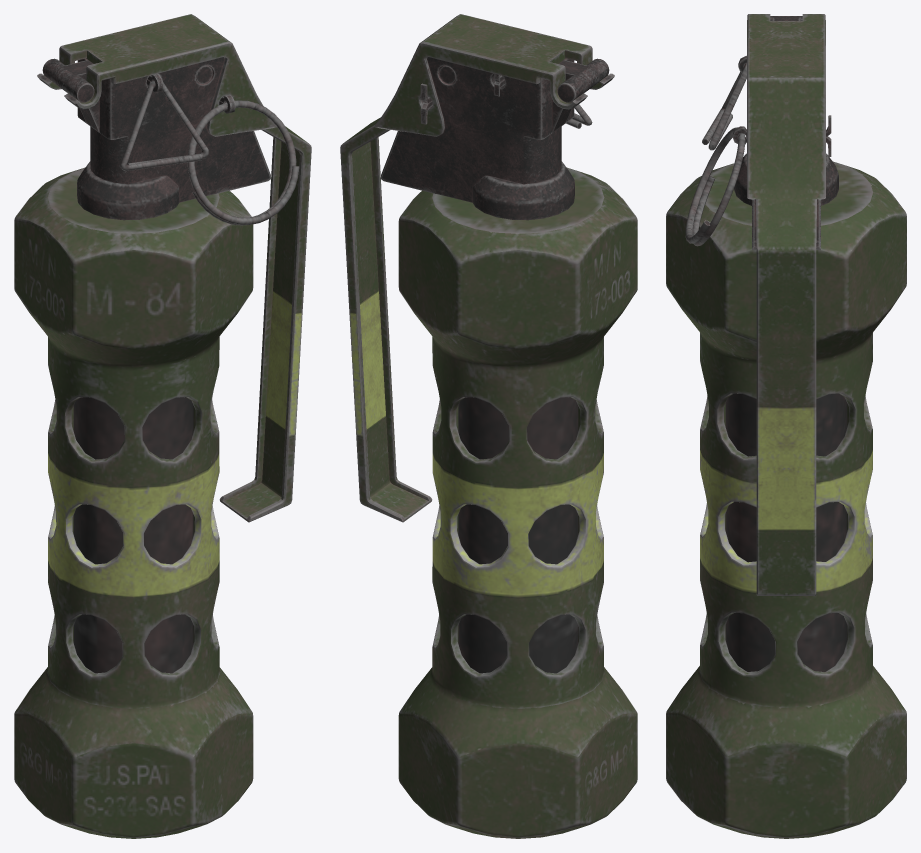
File: stun-grenade.glb
The picture shows the model from 3 angles, left to right: view 1: azimuth 30°, elevation 25°; view 2: azimuth 150°, elevation 25°; view 3: azimuth 270°, elevation 25°; orthographic projection.
Visible parts, largest first — view 1: pCylinder7, pPlane2, pCylinder12, pCylinder8, pCylinder10, pHelix1, pHelix2, pCylinder11; view 2: pCylinder7, pPlane2, pCylinder12, pCylinder8, pCylinder10, pCylinder11; view 3: pCylinder7, pPlane2, pCylinder8, pHelix1, pHelix2, pCylinder10, pCylinder12.
Boxes of the visible parts, bbox=[...] form: pCylinder7: bbox=[14, 167, 253, 838]; pPlane2: bbox=[37, 14, 311, 522]; pCylinder12: bbox=[62, 57, 271, 202]; pCylinder8: bbox=[73, 397, 193, 673]; pCylinder10: bbox=[77, 161, 179, 220]; pHelix1: bbox=[187, 100, 299, 225]; pHelix2: bbox=[121, 80, 208, 171]; pCylinder11: bbox=[42, 58, 94, 102]; pCylinder7: bbox=[398, 167, 637, 838]; pPlane2: bbox=[340, 14, 614, 522]; pCylinder12: bbox=[380, 57, 589, 202]; pCylinder8: bbox=[458, 397, 578, 673]; pCylinder10: bbox=[472, 161, 574, 220]; pCylinder11: bbox=[557, 58, 609, 102]; pCylinder7: bbox=[666, 161, 906, 838]; pPlane2: bbox=[747, 14, 825, 595]; pCylinder8: bbox=[725, 393, 847, 671]; pHelix1: bbox=[685, 127, 745, 246]; pHelix2: bbox=[702, 63, 746, 150]; pCylinder10: bbox=[734, 153, 838, 205]; pCylinder12: bbox=[752, 17, 820, 249].
Size of the model in its own units: 0.0801 by 0.2311 by 0.0652.
Materials: 1 (1 with a texture image).
